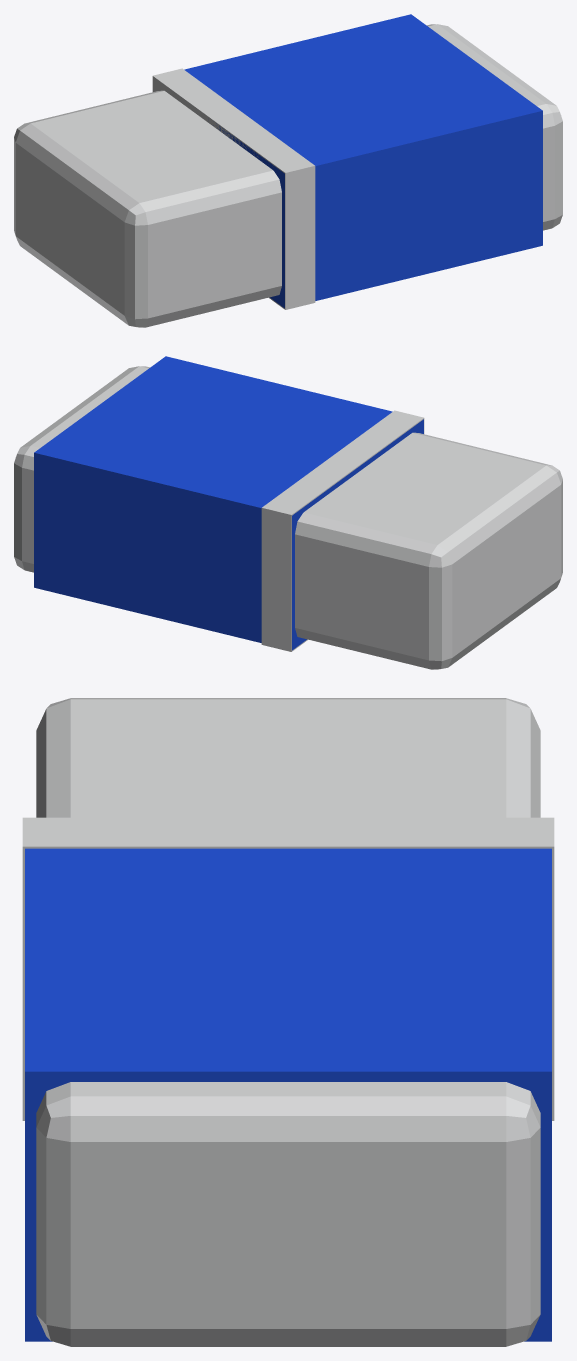
File: eraser.glb
3 renders of one model, top to bottom at view 1: azimuth 30°, elevation 25°; view 2: azimuth 150°, elevation 25°; view 3: azimuth 270°, elevation 25°, orthographic. The views are drawn at different scales.
Visible parts, largest first — view 1: Cube.001, Cube, Cube.002; view 2: Cube.001, Cube, Cube.002; view 3: Cube, Cube.001, Cube.002.
Part boxes in pixels (x1=…): Cube.001: x1=184, y1=14, x2=542, y2=308; Cube: x1=14, y1=24, x2=562, y2=327; Cube.002: x1=152, y1=68, x2=315, y2=309; Cube.001: x1=34, y1=356, x2=423, y2=650; Cube: x1=14, y1=366, x2=562, y2=669; Cube.002: x1=261, y1=410, x2=424, y2=651; Cube: x1=36, y1=698, x2=540, y2=1346; Cube.001: x1=25, y1=848, x2=551, y2=1341; Cube.002: x1=22, y1=817, x2=554, y2=1120.
Bounding box in the file's own units: 4.4 × 1.32 × 2.32.
